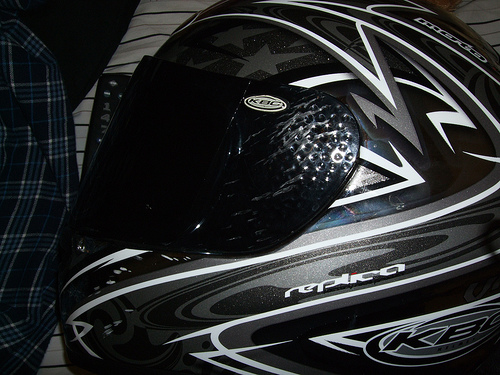helmet: (119, 6, 500, 370)
